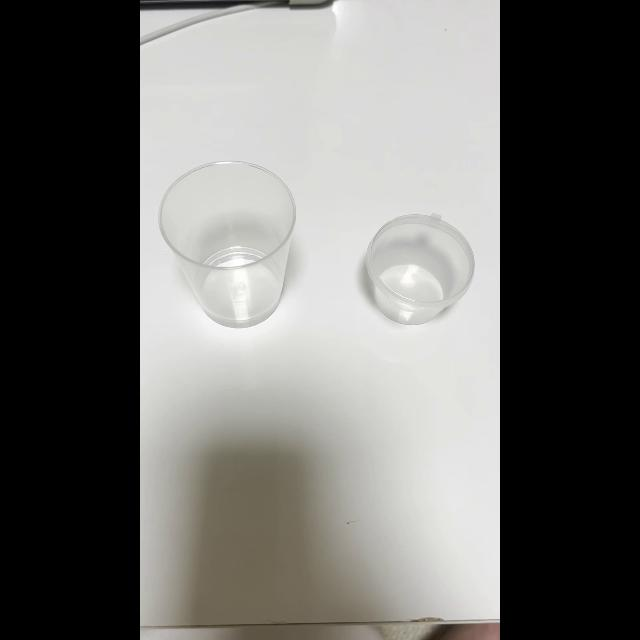clean: (158, 162, 296, 326), (364, 212, 476, 324)
